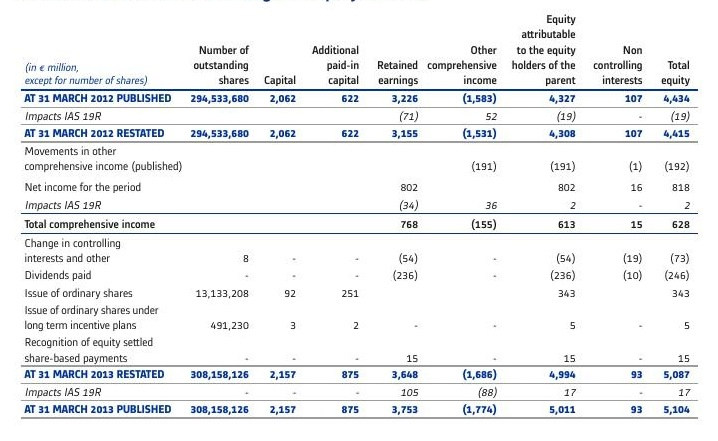table: (0, 0, 718, 441)
